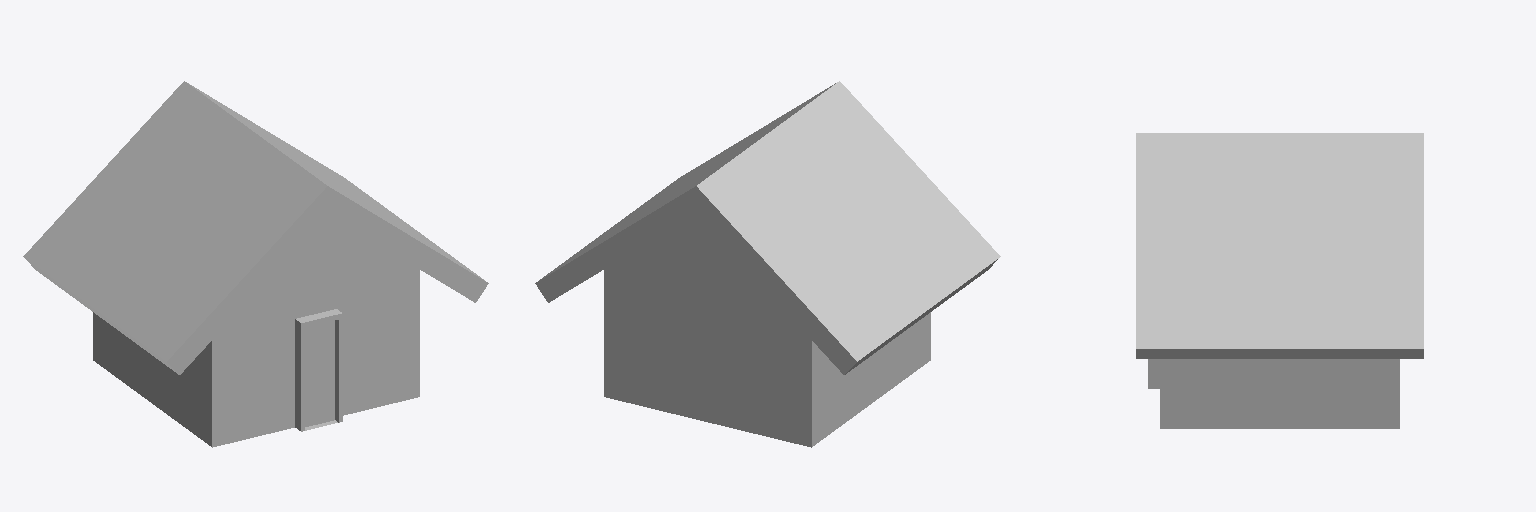
The model's file is House.obj.
3 renders of one model, left to right at view 1: azimuth 30°, elevation 25°; view 2: azimuth 150°, elevation 25°; view 3: azimuth 270°, elevation 25°, orthographic.
Visible parts, largest first — view 1: House_Cube.001; view 2: House_Cube.001; view 3: House_Cube.001.
Part boxes in pixels (bbox=[...]): House_Cube.001: bbox=[23, 81, 488, 447]; House_Cube.001: bbox=[535, 81, 1000, 447]; House_Cube.001: bbox=[1136, 133, 1423, 428].
Size of the model in its own units: 0.3107 by 0.226 by 0.24.